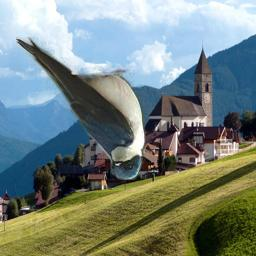Swallow: (16, 37, 146, 180)
